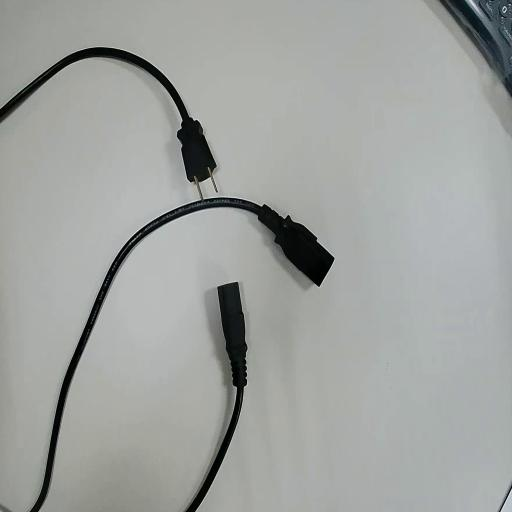wire: (31, 199, 332, 511), (0, 48, 214, 180), (186, 283, 245, 511)
